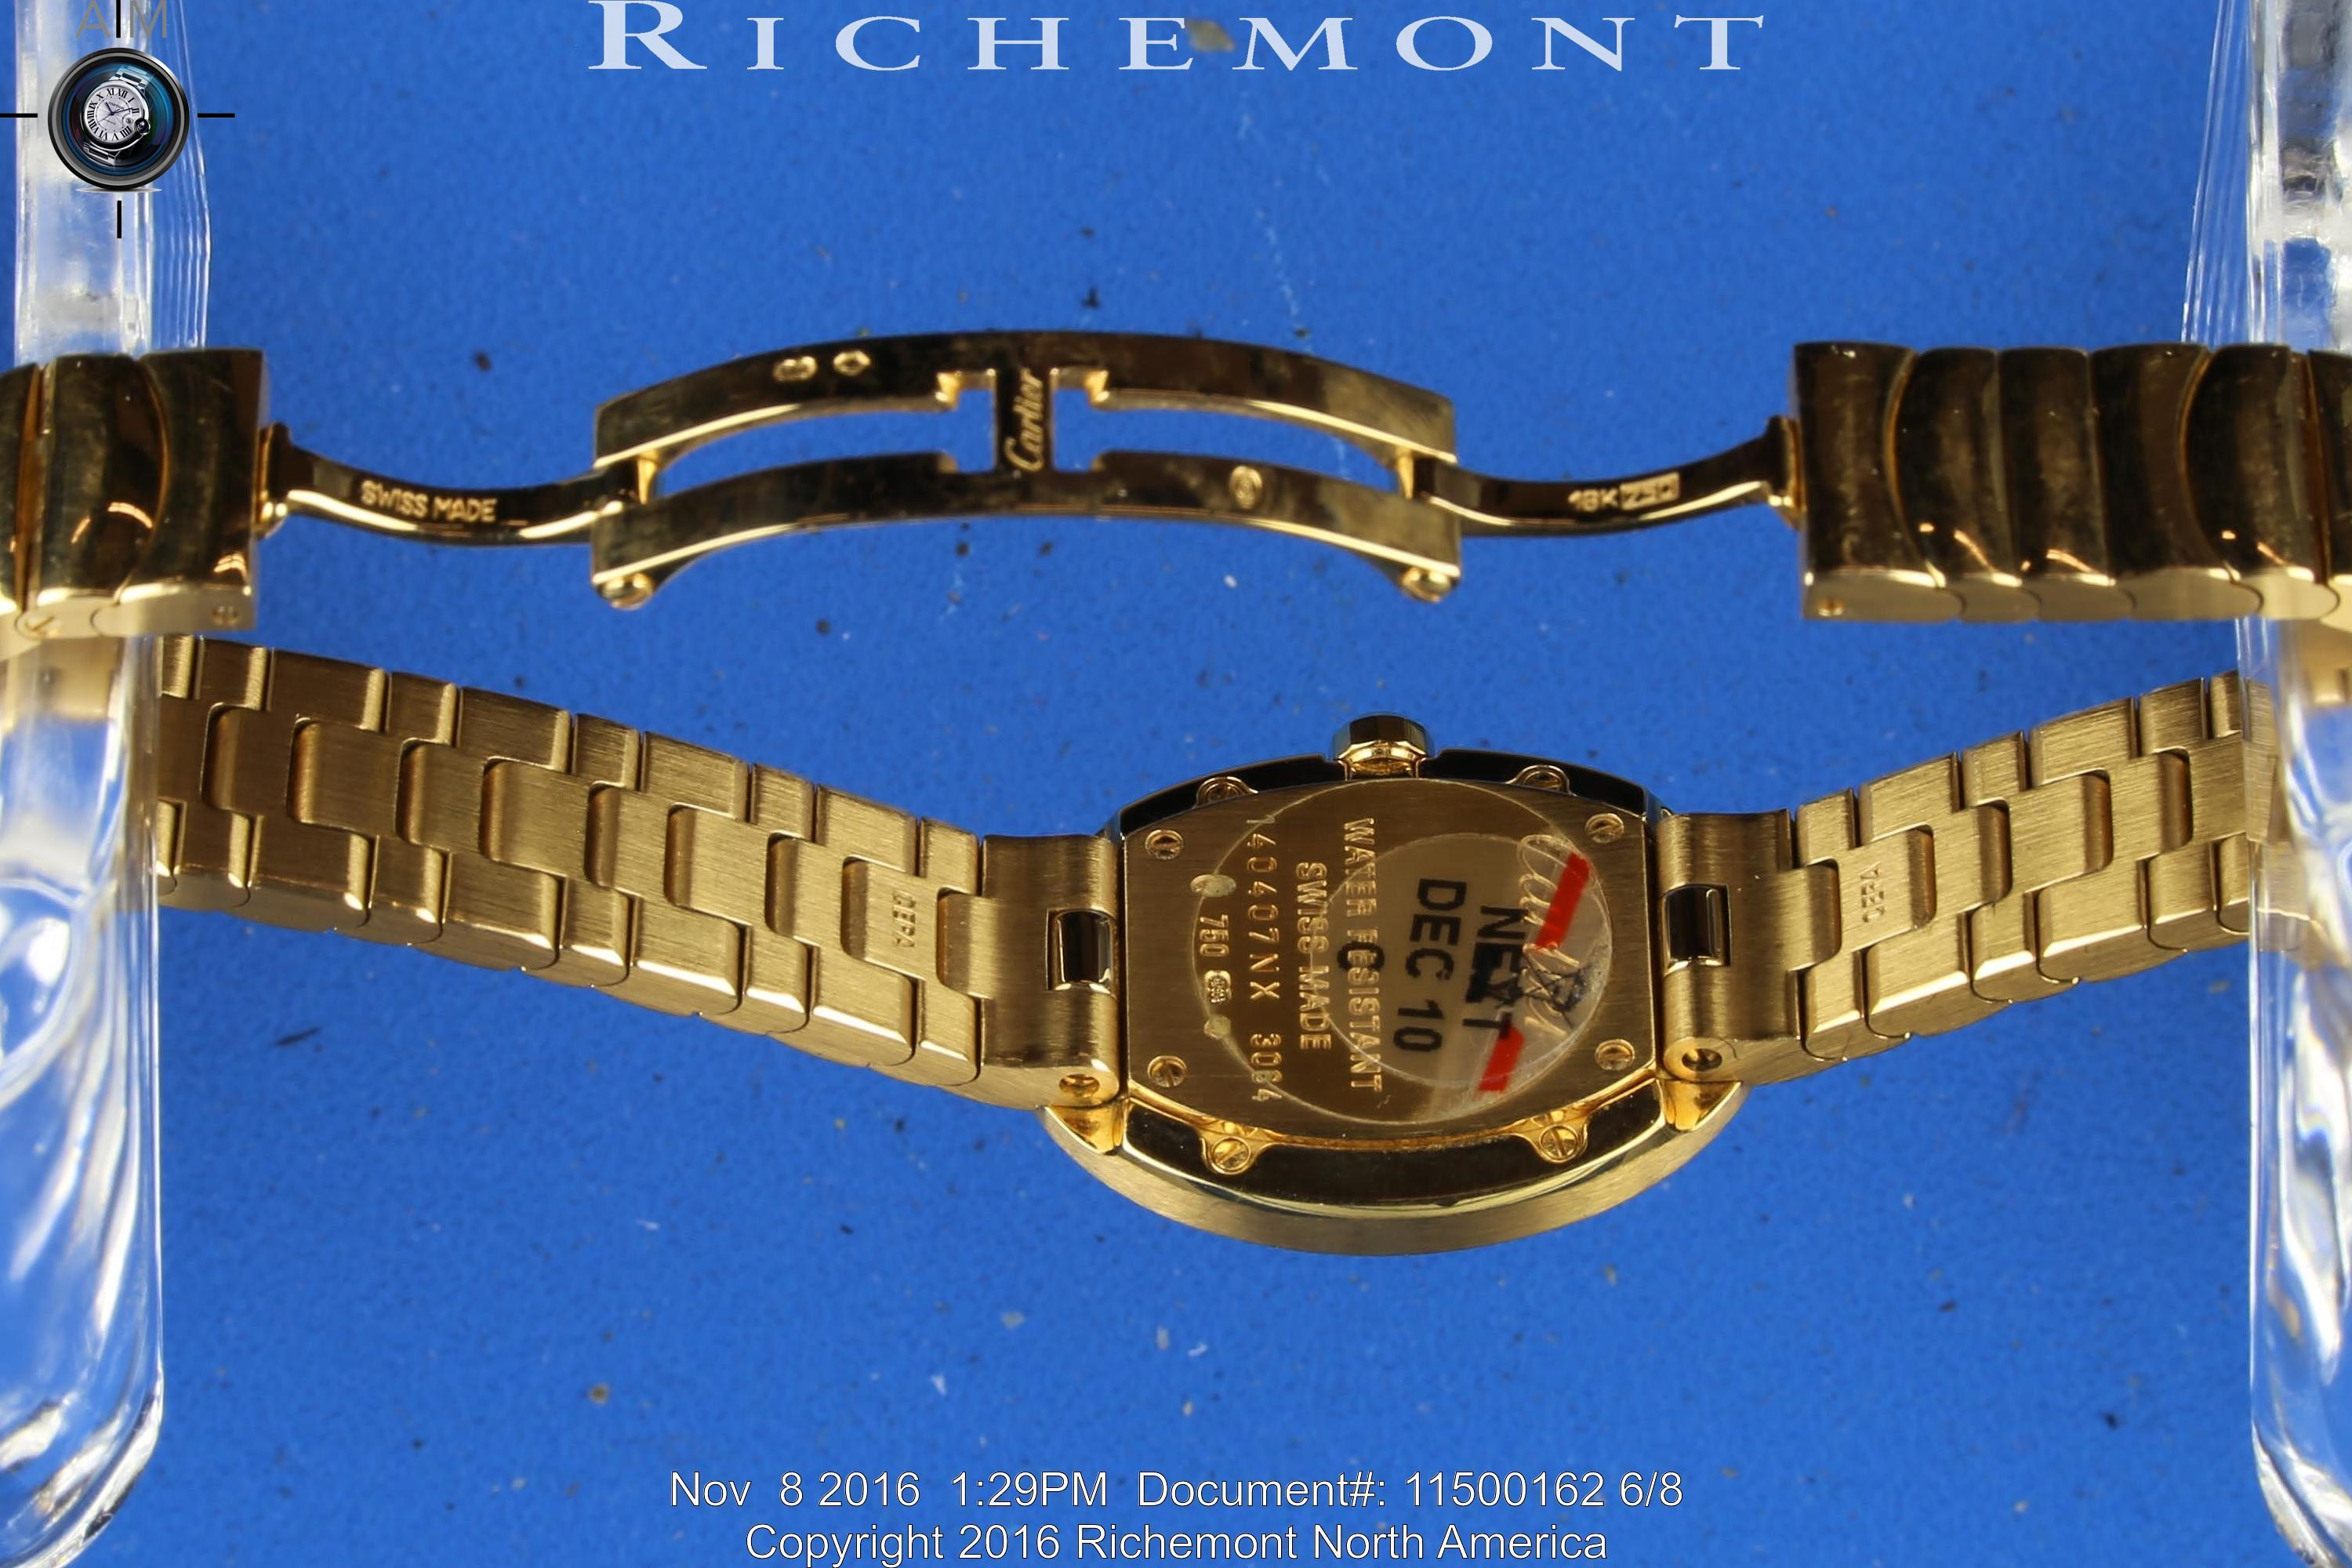Watch Back Case: (1013, 703, 1762, 1258)
